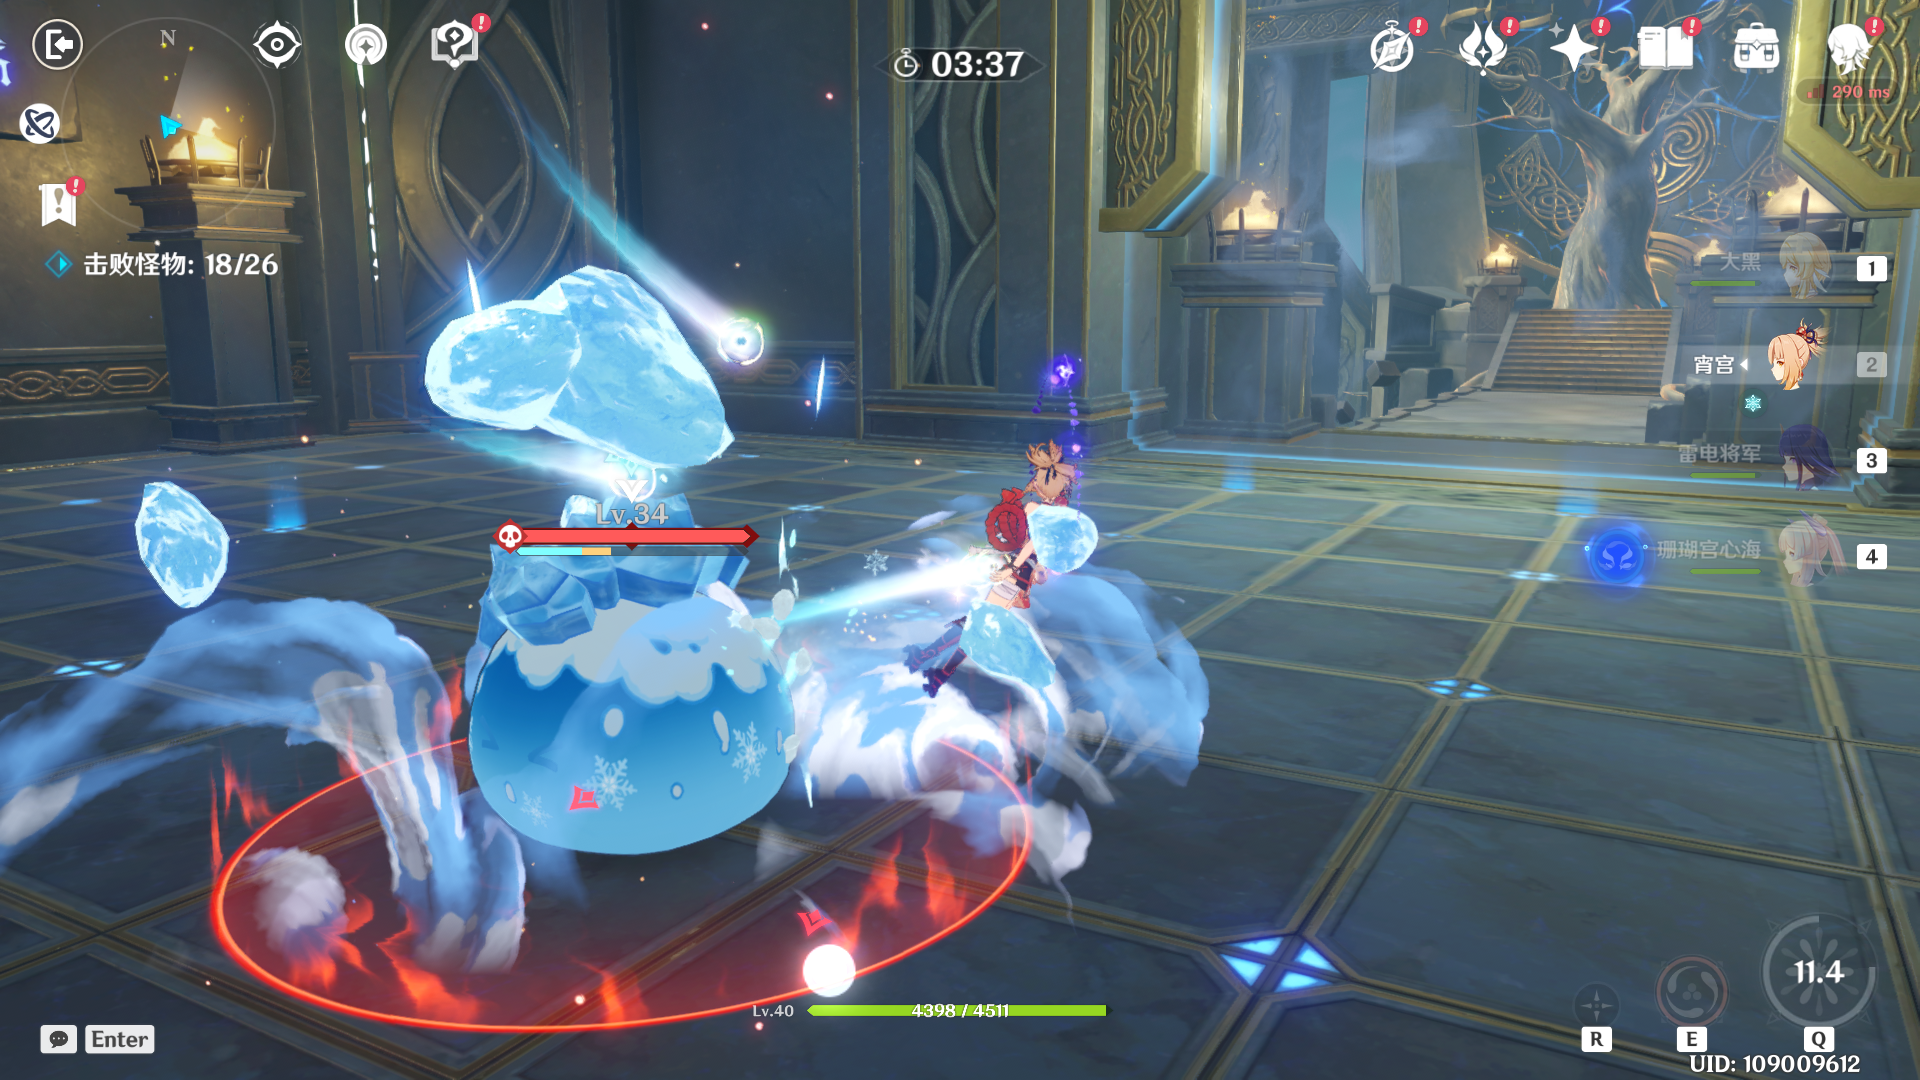slime: (429, 517, 816, 860)
